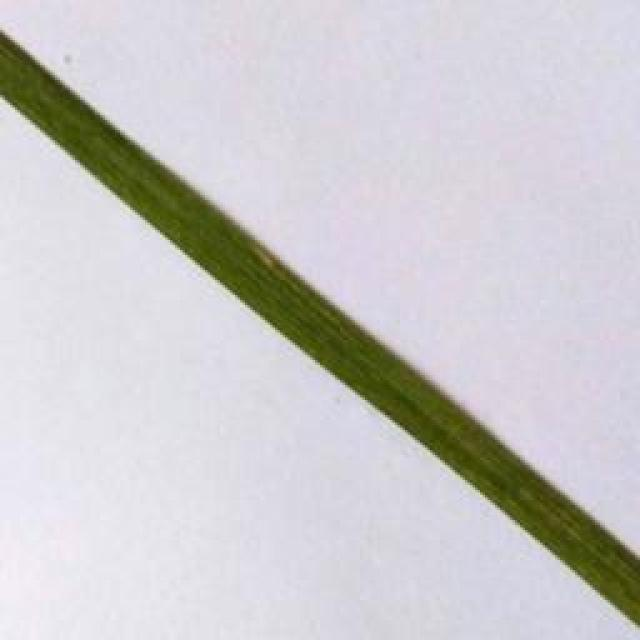Healthy-Plant: (0, 31, 104, 188), (540, 475, 640, 630), (102, 115, 190, 259), (190, 185, 270, 325), (269, 248, 349, 388), (408, 364, 479, 490), (480, 423, 540, 543), (351, 315, 407, 433)
